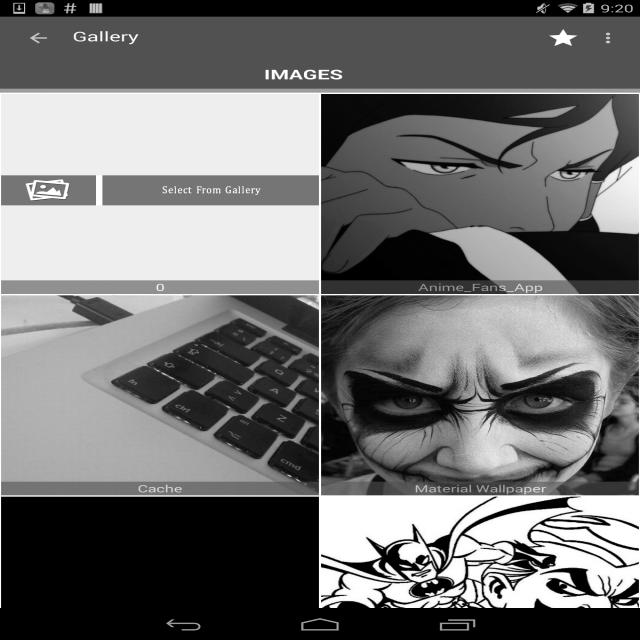ImageButton: (9, 19, 68, 57)
ImageView: (0, 94, 320, 294), (320, 94, 640, 294), (0, 296, 320, 496), (320, 296, 640, 496), (0, 496, 320, 640), (320, 496, 640, 640), (589, 22, 631, 54)
TextView: (1, 280, 319, 294), (321, 280, 639, 294), (1, 482, 319, 495), (321, 482, 639, 495), (264, 65, 375, 83), (538, 22, 588, 54), (73, 27, 139, 45)
